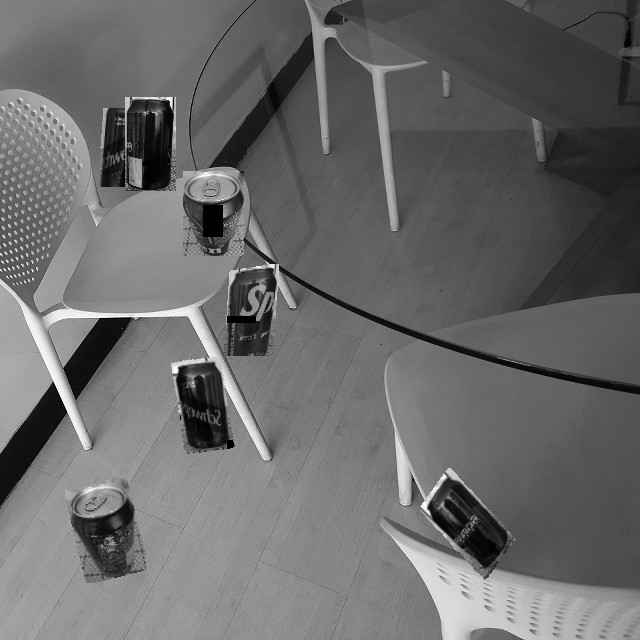heineken: (183, 171, 244, 256)
pepsi: (65, 476, 146, 583)
schweppes: (413, 467, 522, 581), (160, 350, 246, 460), (100, 108, 162, 187), (125, 97, 176, 191)
sprite: (224, 264, 279, 356)
